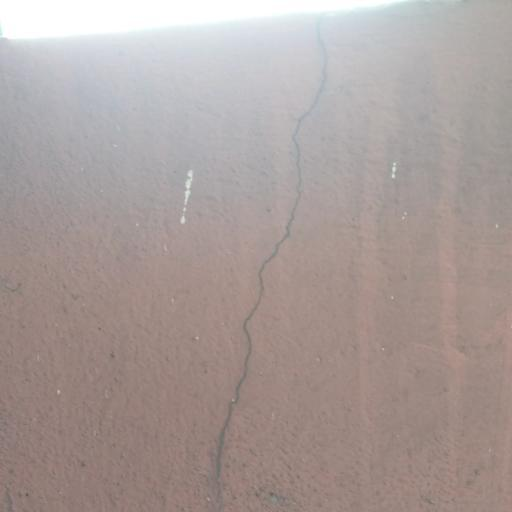minor_crack: (203, 1, 349, 512)
